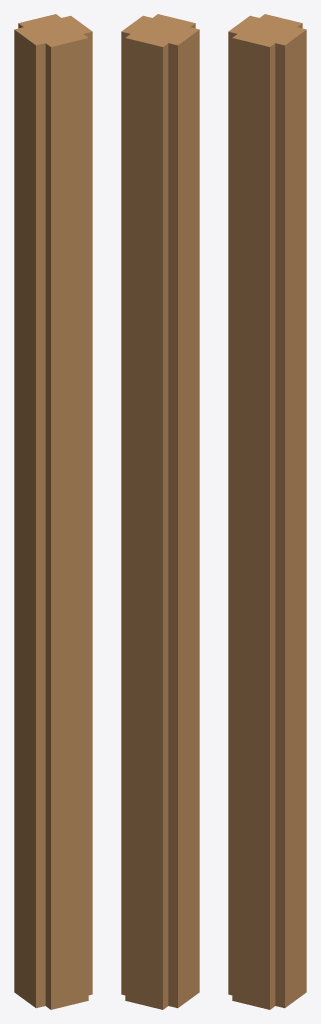
The model's file is column-2.obj.
3 views of the same model, side by side, from view 1: azimuth 30°, elevation 25°; view 2: azimuth 150°, elevation 25°; view 3: azimuth 330°, elevation 25° (orthographic).
Bounding box in the file's own units: 1.2 × 19.5 × 1.2.
Materials: 1 (1 with a texture image).
